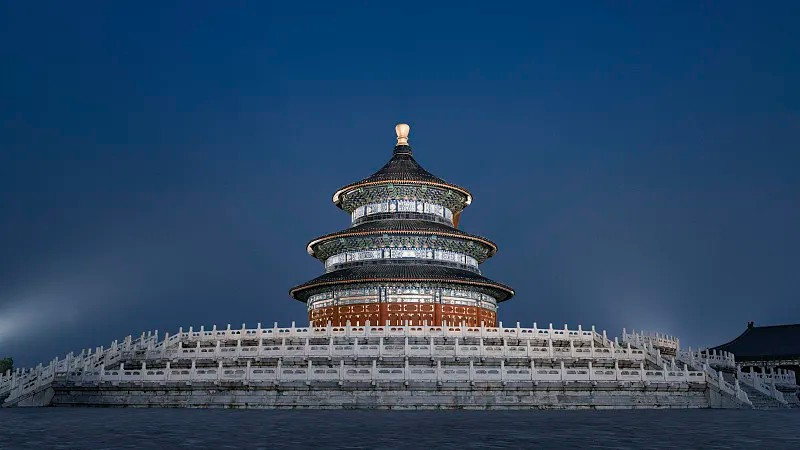Heaven: (289, 122, 515, 330)
